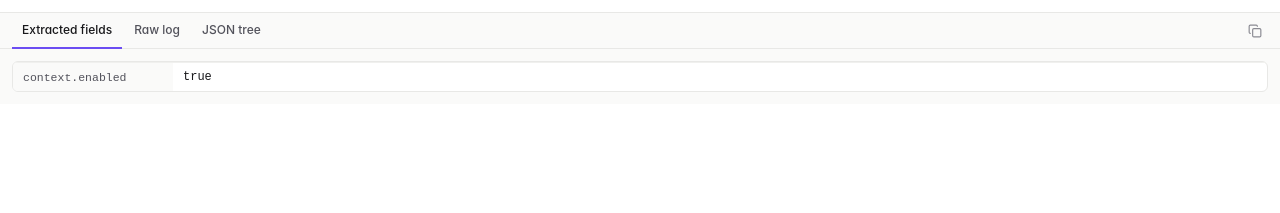
expanded log JSON tree › copies the original JSON from the tree header and root
Step 1. Click the button "JSON tree" → (231, 31), box 192,13 -> 271,49
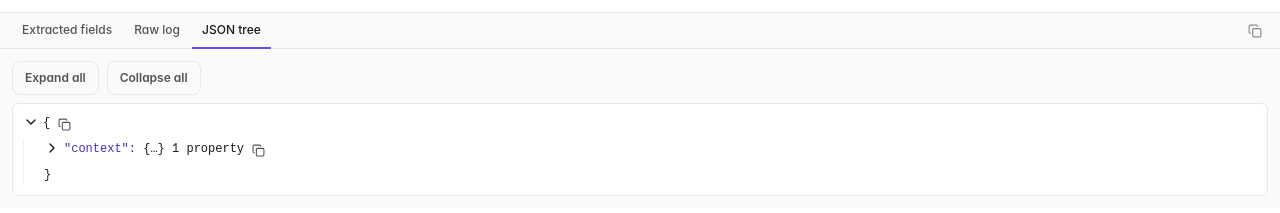
Step 2. Click the button named "Copy to clipboard" → (1255, 30), box 1242,18 -> 1268,44
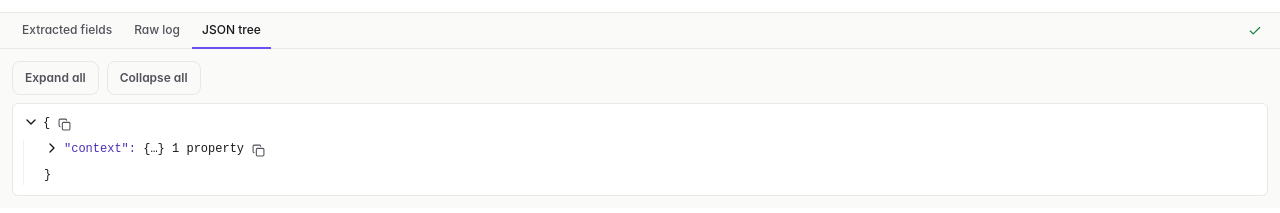
Step 3. Click the button named "Copy JSON at $" → (65, 124), box 54,114 -> 75,135
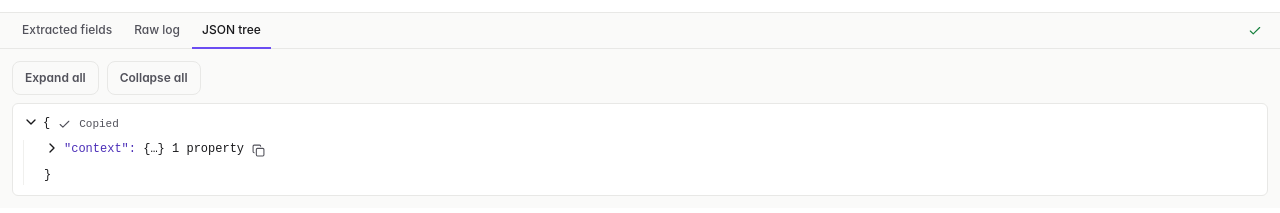
Expected: the text "Copied" is shown, 79,116 -> 119,133
